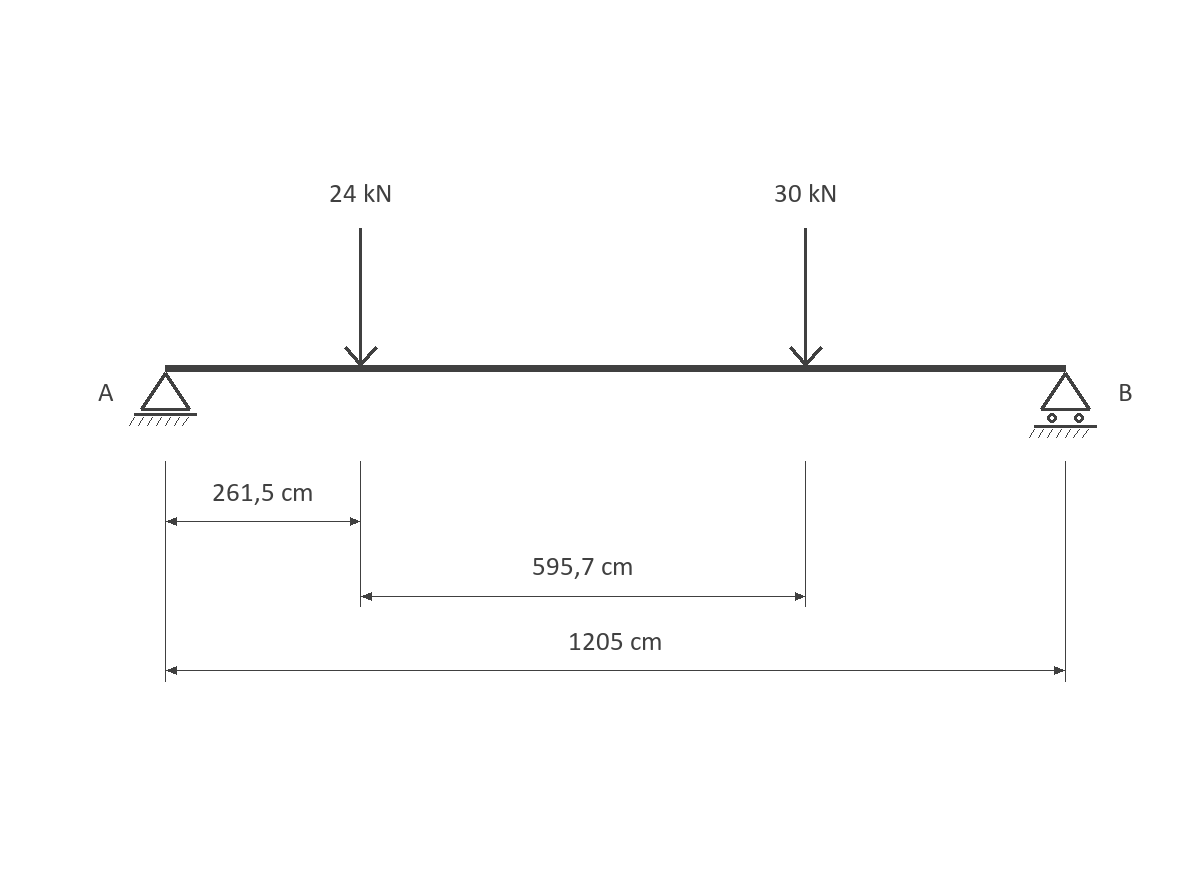pin_support: (129, 372, 197, 426)
point_load: (344, 228, 378, 366), (789, 228, 823, 366)
roller_support: (1029, 372, 1097, 438)
